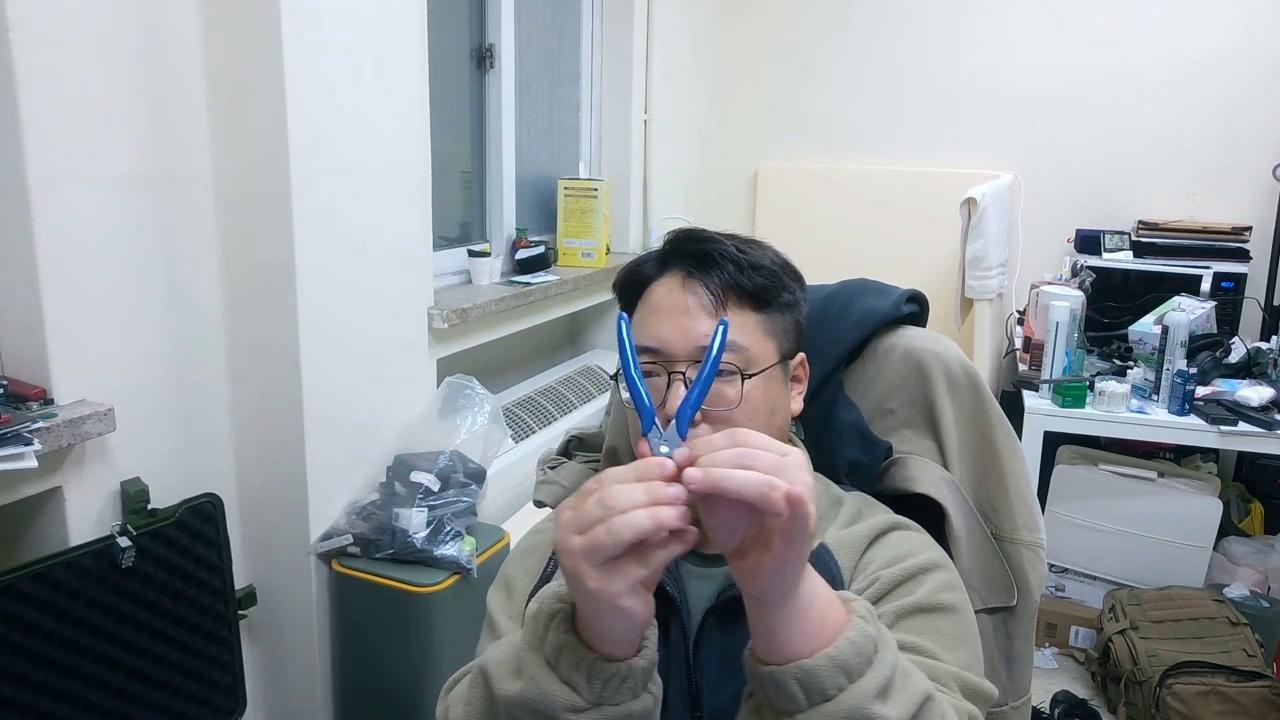blue_pliers: (615, 310, 733, 462)
